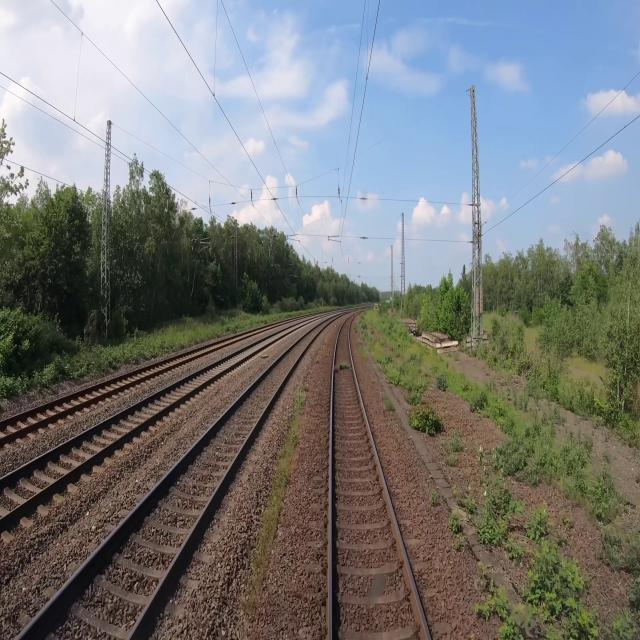Plant: (242, 385, 309, 617), (474, 593, 496, 619), (450, 519, 464, 551), (381, 391, 395, 411), (497, 623, 511, 639), (338, 362, 351, 369), (431, 491, 437, 504)
